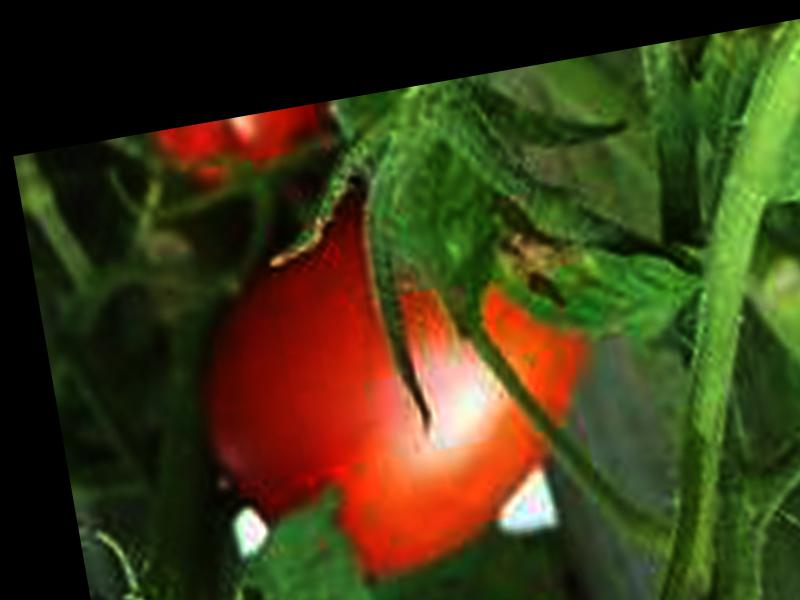Tomato: (176, 177, 613, 600)
